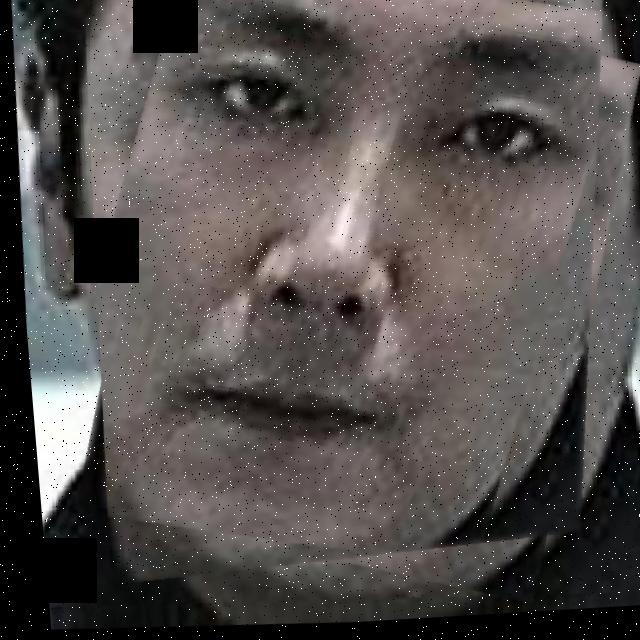anger: (62, 0, 640, 608)
